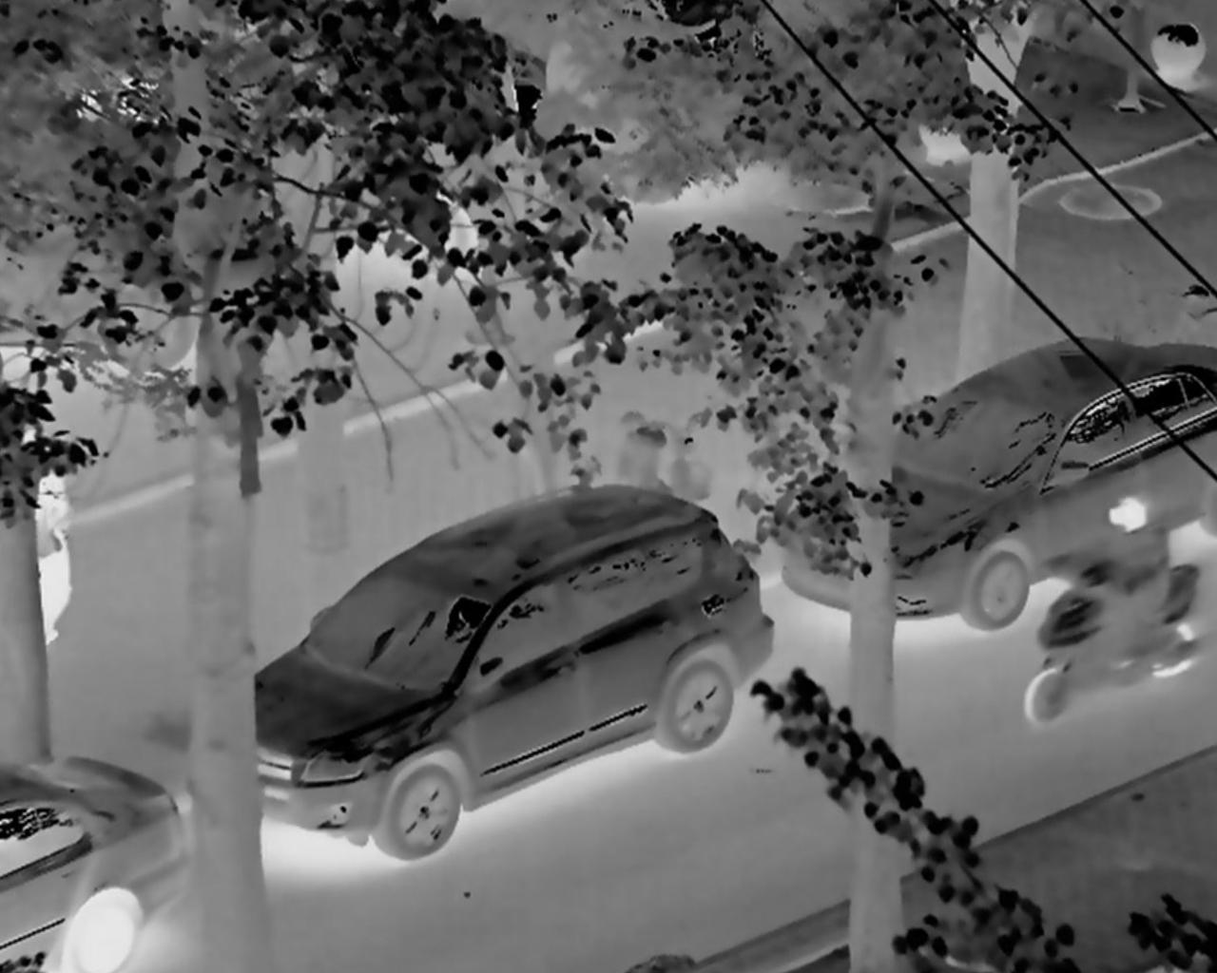person: (1031, 466, 1203, 756), (33, 458, 72, 648)
